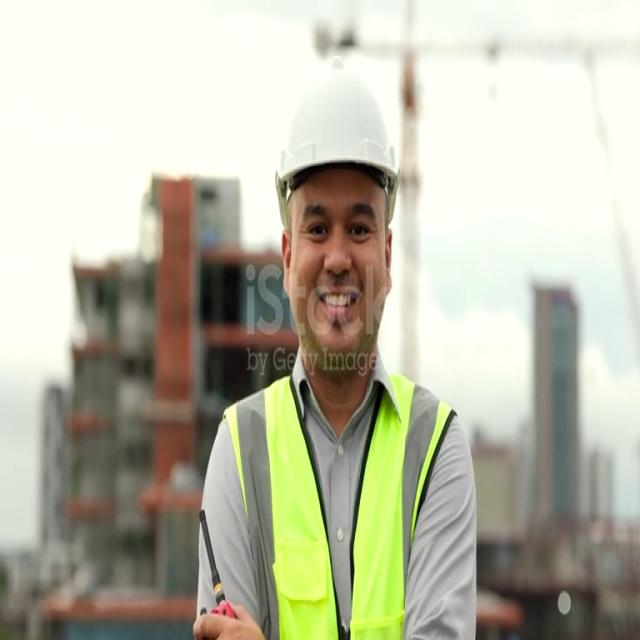capacete: (264, 53, 410, 234)
